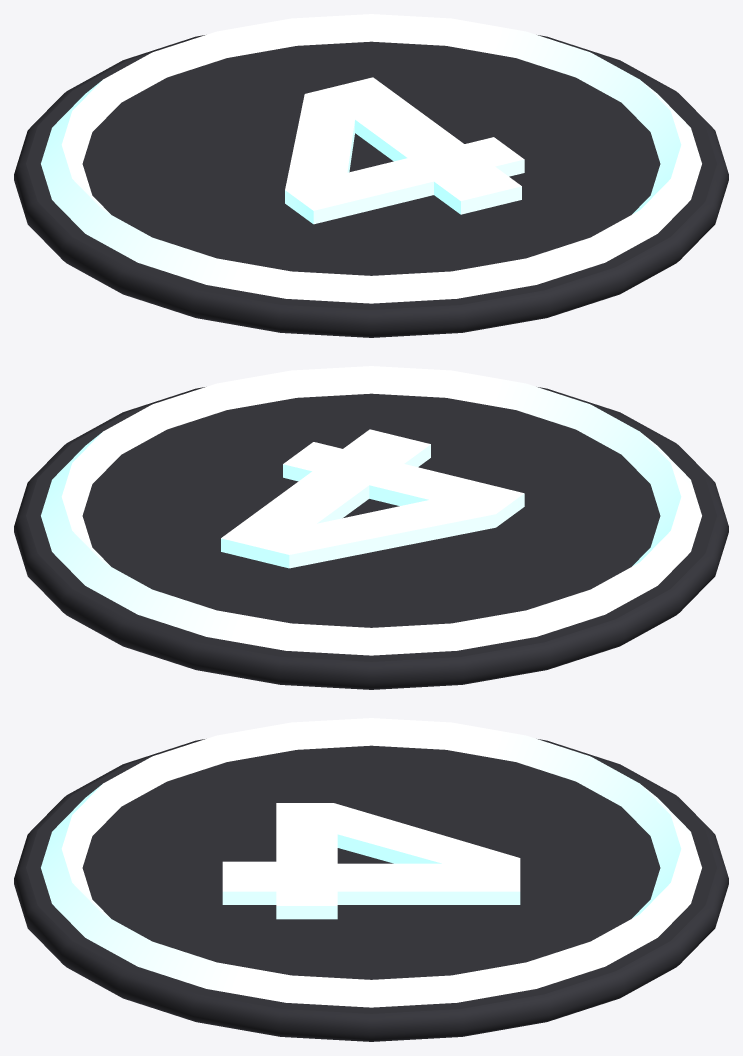
File: kr_joinpad_4.glb
The picture shows the model from 3 angles, top to bottom: view 1: azimuth 30°, elevation 25°; view 2: azimuth 150°, elevation 25°; view 3: azimuth 270°, elevation 25°; orthographic projection.
Parts seen in each view (by area): view 1: vc_m0_r4, kr_joinpad_4_neonblue; view 2: vc_m0_r4, kr_joinpad_4_neonblue; view 3: vc_m0_r4, kr_joinpad_4_neonblue.
Part boxes in pixels (x1,y1,x2,y2): vc_m0_r4: [14, 35, 728, 337]; kr_joinpad_4_neonblue: [41, 14, 701, 303]; vc_m0_r4: [14, 387, 728, 689]; kr_joinpad_4_neonblue: [41, 366, 701, 655]; vc_m0_r4: [14, 739, 728, 1041]; kr_joinpad_4_neonblue: [41, 718, 701, 1007].
Size of the model in its own units: 1.2 by 0.085 by 1.2.
